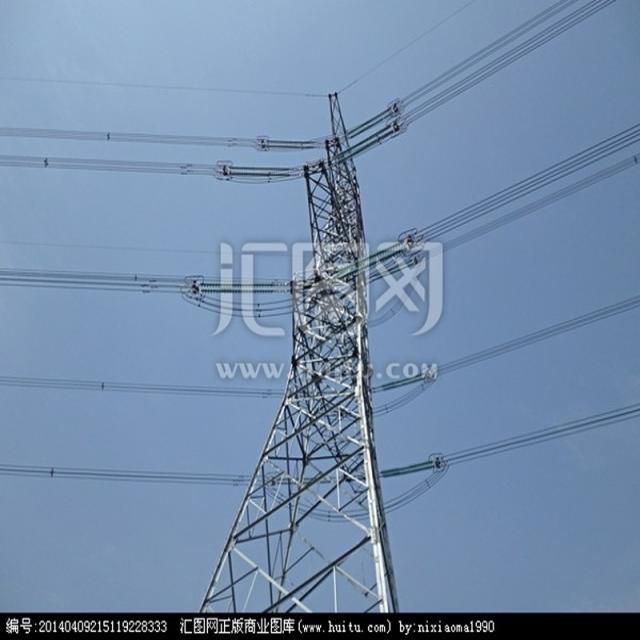non-critical vegetation: (187, 85, 457, 612)
